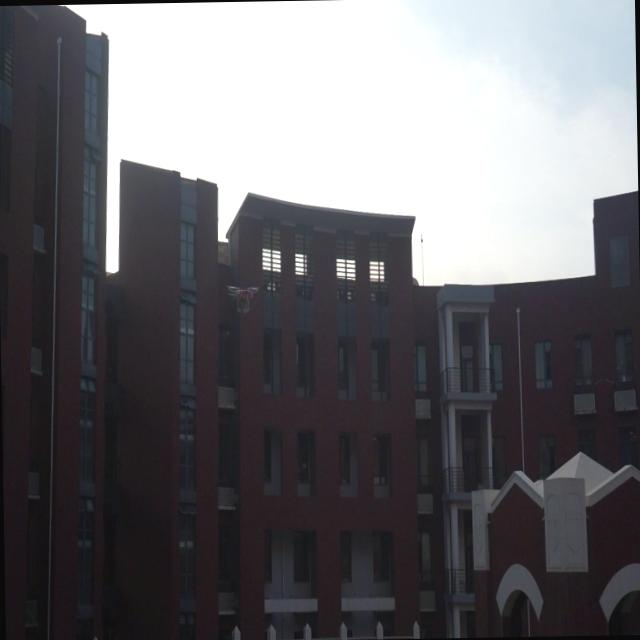drone: (225, 277, 262, 315)
